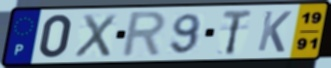0: (36, 13, 74, 59)
9: (167, 12, 206, 56)
K: (255, 9, 294, 54)
R: (118, 10, 168, 60)
T: (221, 8, 255, 57)
X: (72, 12, 118, 59)
